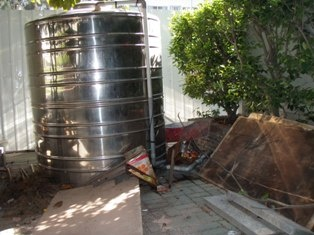water_tower: (24, 1, 167, 186)
